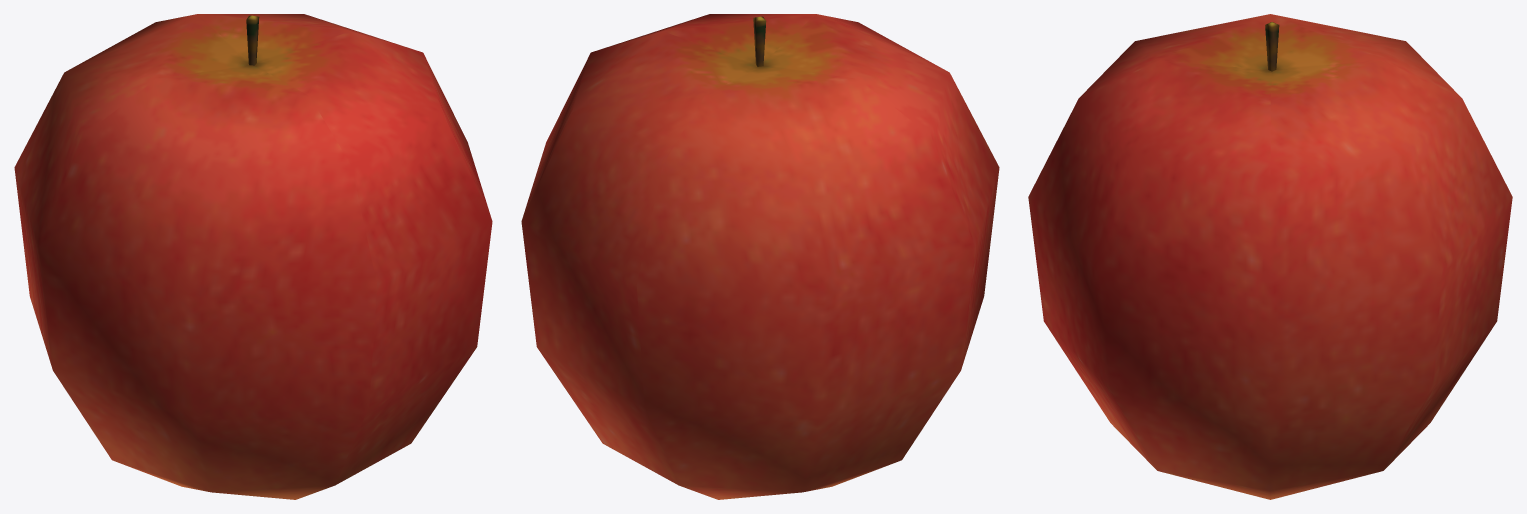
The model's file is apple.fbx.
3 views of the same model, side by side, from view 1: azimuth 30°, elevation 25°; view 2: azimuth 150°, elevation 25°; view 3: azimuth 270°, elevation 25° (orthographic). The views are drawn at different scales.
Parts seen in each view (by area): view 1: apple_Mesh_001; view 2: apple_Mesh_001; view 3: apple_Mesh_001.
Boxes of the visible parts, bbox=[...] form: apple_Mesh_001: bbox=[14, 14, 492, 499]; apple_Mesh_001: bbox=[521, 14, 999, 499]; apple_Mesh_001: bbox=[1028, 14, 1512, 499].
Size of the model in its own units: 7.39 by 7.46 by 7.39.
